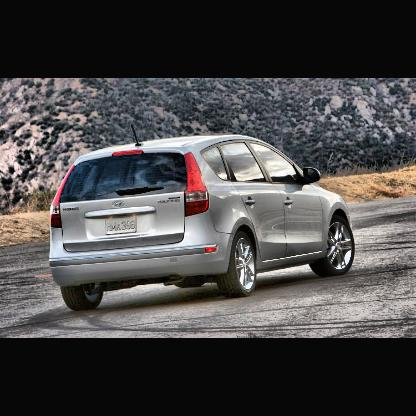Hyundai Elantra Touring Hatchback 2012: (47, 122, 358, 310)
